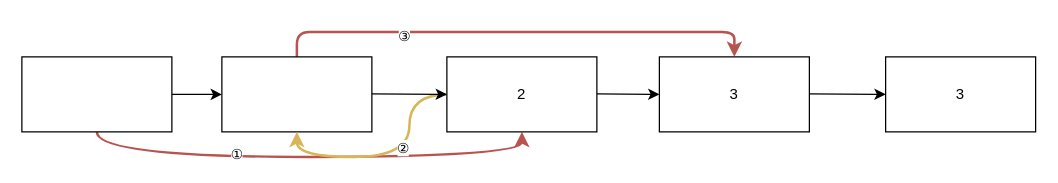
The diagram is 1058 pixels wide and 183 high, and some of its shapes have lost their labels. Each missing label, with the box of its shape:
cur: (21, 56, 172, 132)
head: (221, 56, 372, 132)
